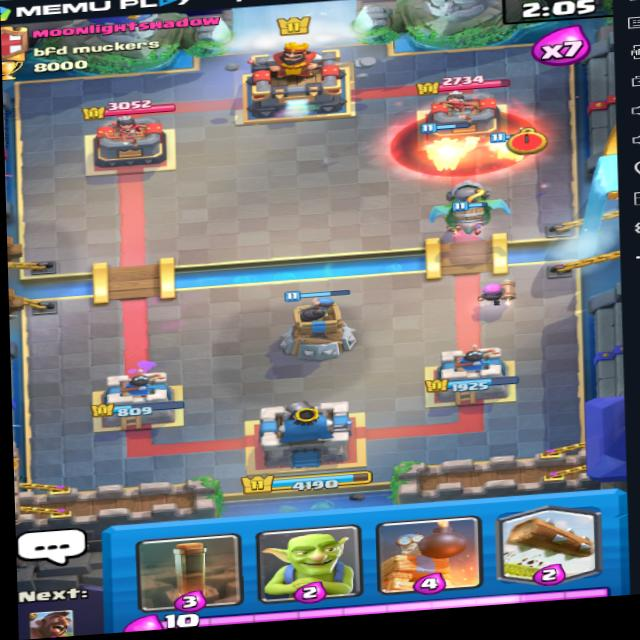void: (393, 100, 539, 180)
